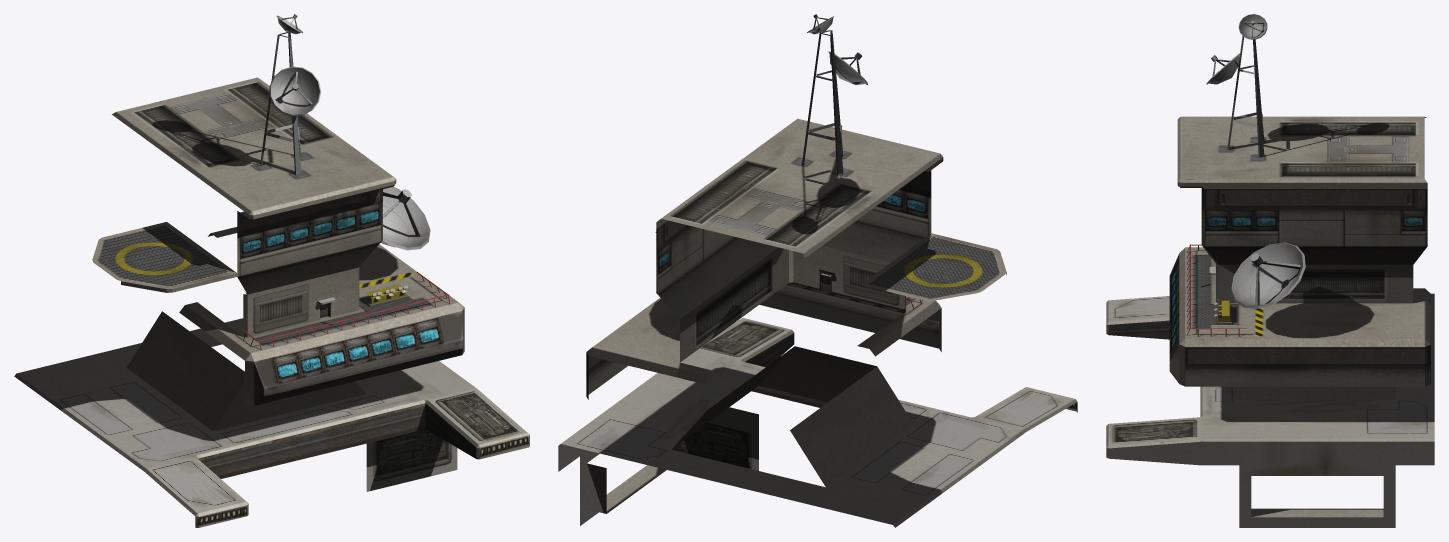
The model's file is ML2_Ctrl_Twr.FBX.
3 views of the same model, side by side, from view 1: azimuth 30°, elevation 25°; view 2: azimuth 150°, elevation 25°; view 3: azimuth 270°, elevation 25° (orthographic). The views are drawn at different scales.
Visible parts, largest first — view 1: ML2_Ctrl_Twr; view 2: ML2_Ctrl_Twr; view 3: ML2_Ctrl_Twr.
Part boxes in pixels (<box>): ML2_Ctrl_Twr: <box>14,14,529,527</box>; ML2_Ctrl_Twr: <box>558,14,1077,527</box>; ML2_Ctrl_Twr: <box>1106,14,1434,527</box>.
Bounding box in the file's own units: 20.49 × 28.27 × 19.16.
Materials: 1 (1 with a texture image).
